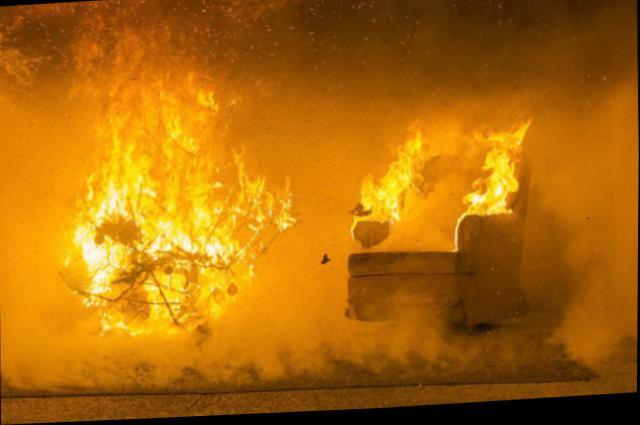fire: (62, 66, 300, 351), (353, 108, 536, 257)
